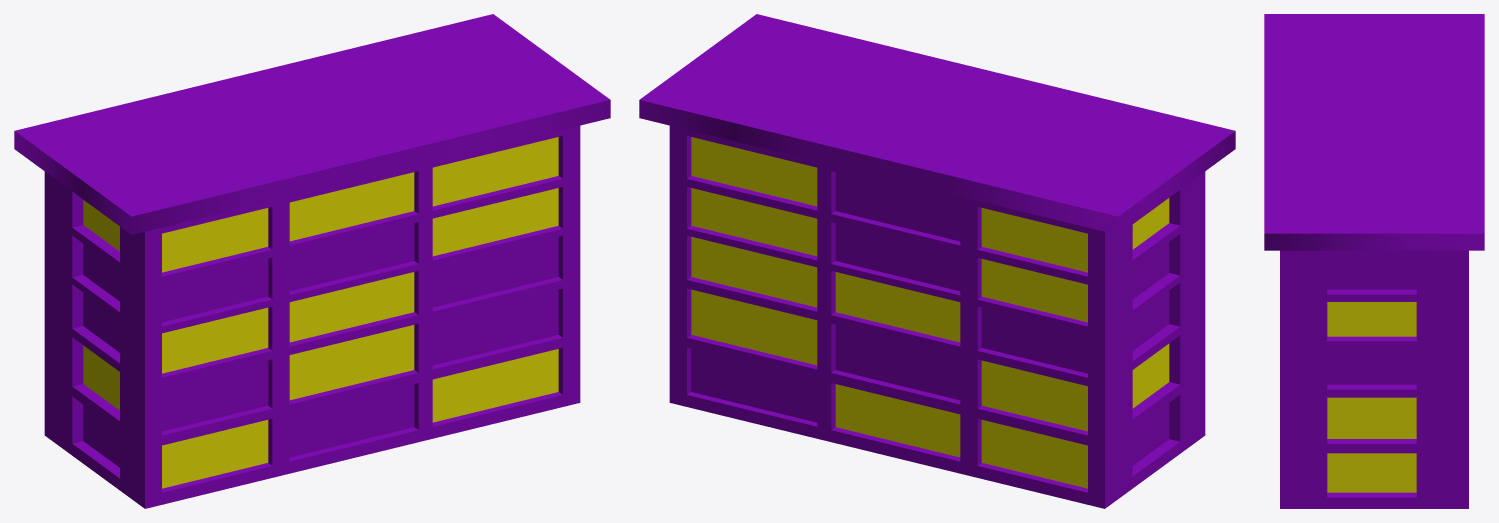
File: Building_Large_Side_001.fbx
3 views of the same model, side by side, from view 1: azimuth 30°, elevation 25°; view 2: azimuth 150°, elevation 25°; view 3: azimuth 270°, elevation 25° (orthographic). The views are drawn at different scales.
Visible parts, largest first — view 1: Building_Large_Side_001; view 2: Building_Large_Side_001; view 3: Building_Large_Side_001.
Boxes of the visible parts, <box> form: Building_Large_Side_001: <box>14,14,610,508</box>; Building_Large_Side_001: <box>639,14,1235,508</box>; Building_Large_Side_001: <box>1264,14,1484,508</box>.
Size of the model in its own units: 6600 by 4000 by 2800.
